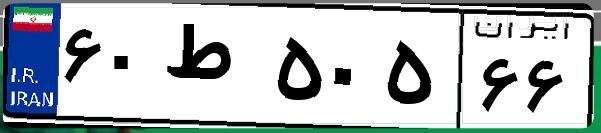0: (330, 28, 385, 110), (110, 28, 158, 98)
5: (270, 28, 330, 110), (385, 28, 445, 110)
6: (57, 26, 110, 100), (475, 38, 525, 113), (525, 38, 570, 115)
ط: (158, 20, 270, 120)
